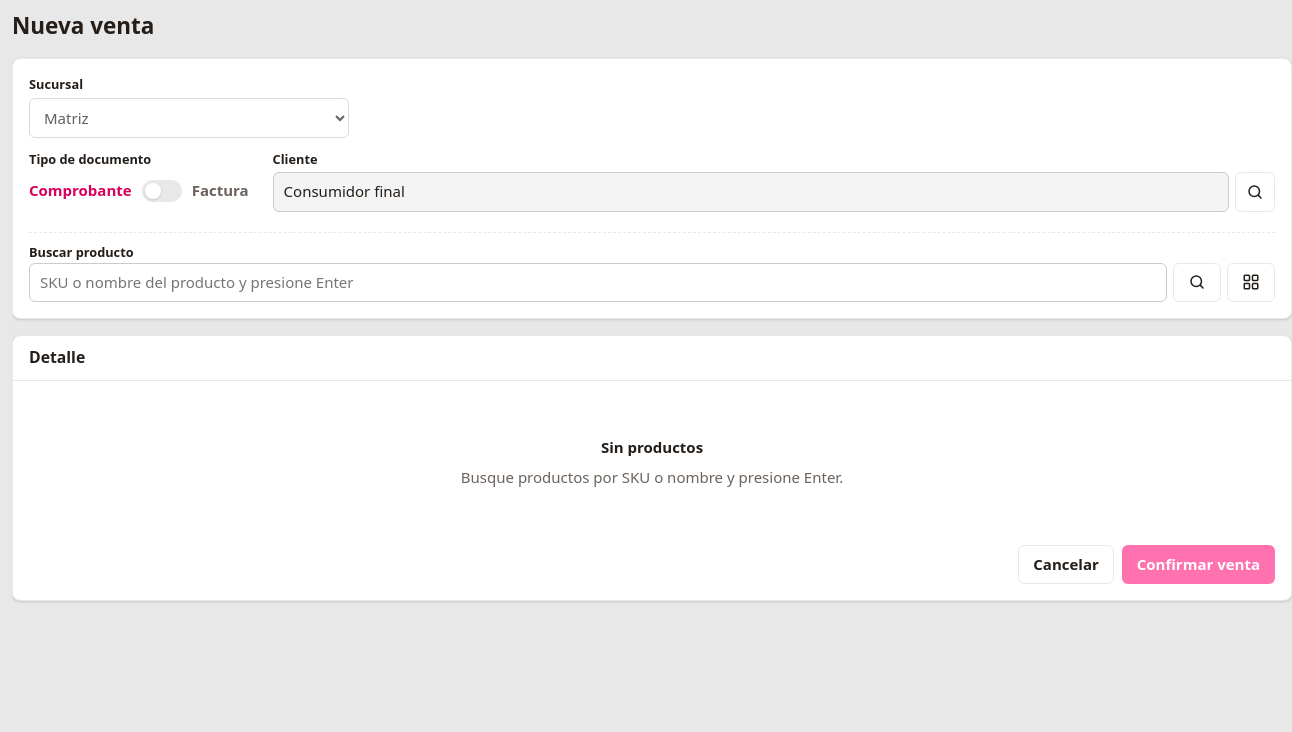
Test case: NewSalePage › explains that a product registered in the branch is inactive instead of "not found"
Type "funda silicona" into the field labelled "Buscar producto" at (598, 282), box [29, 263, 1167, 302]
Then press Enter
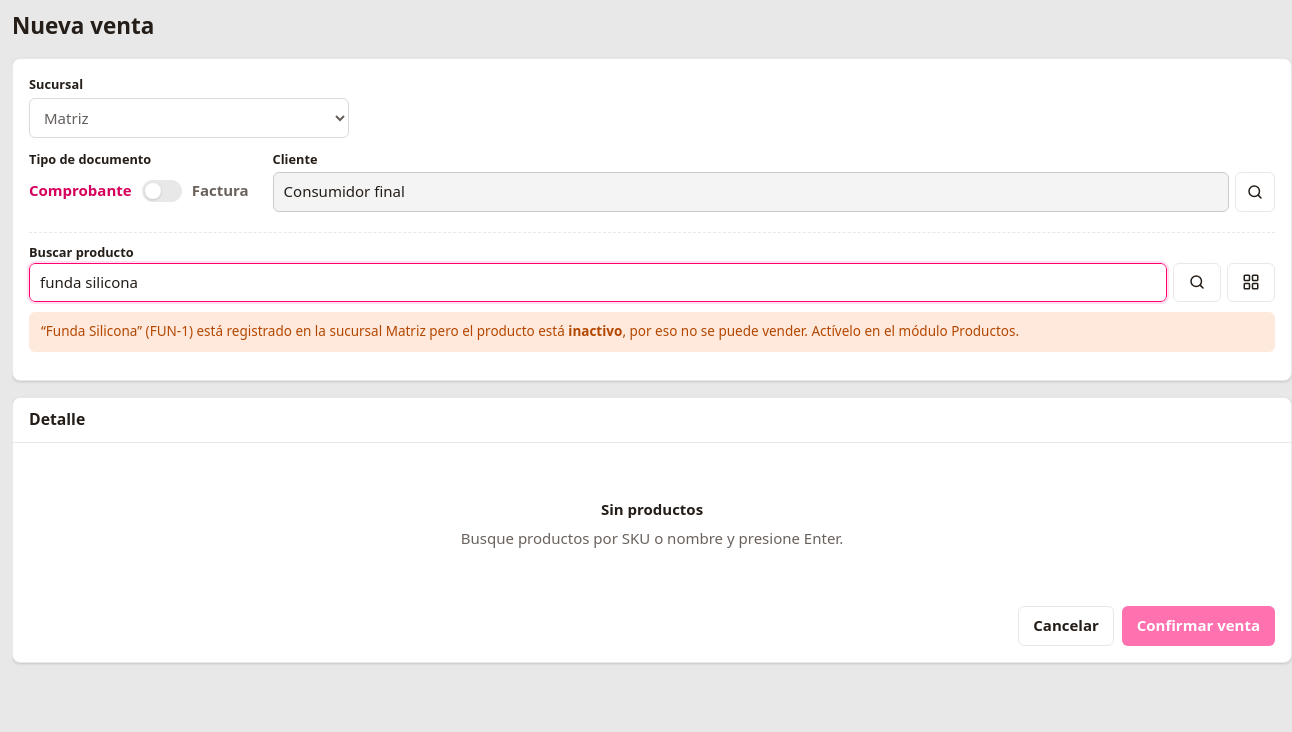
Expected: the text "el producto está" shows "“Funda Silicona” (FUN-1) está registrado en la sucursal Matriz pero el producto está inactivo", [29, 312, 1275, 352]
